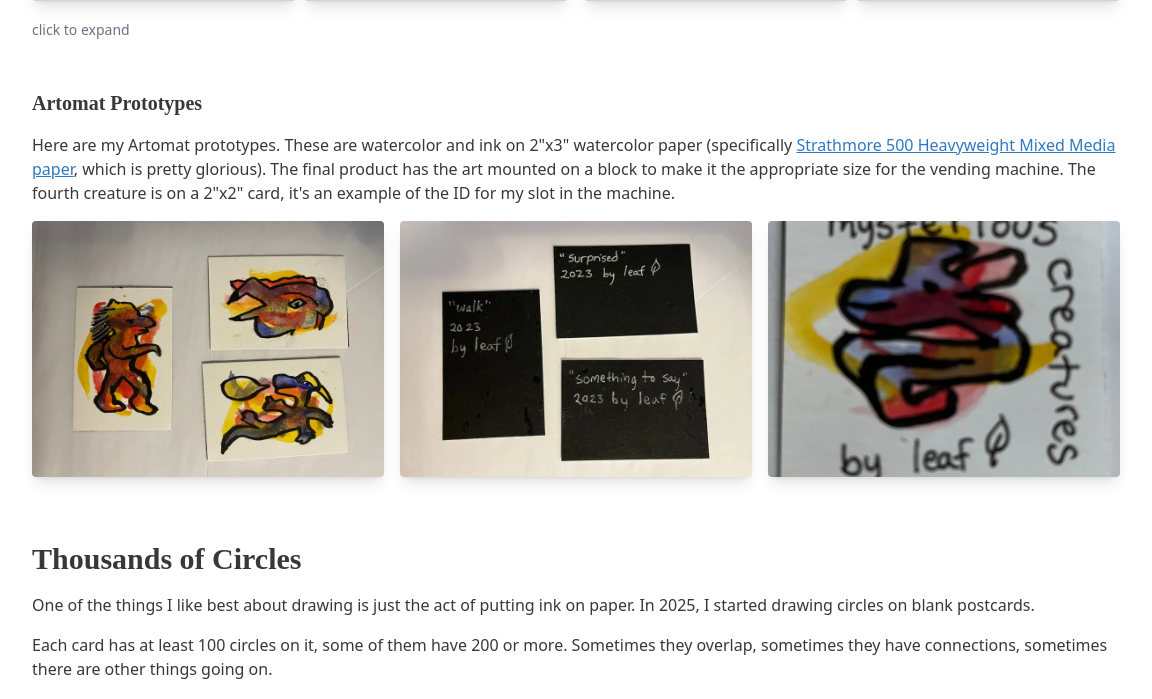
Test: Art Page › Lightbox Functionality › navigates to next image when next button is clicked
(page scrolled)
What coordinates should you click on to do the following:
click the picture with alt text "IMG 62"
I would click on:
 (208, 349)
Its box is [32,221,384,477].
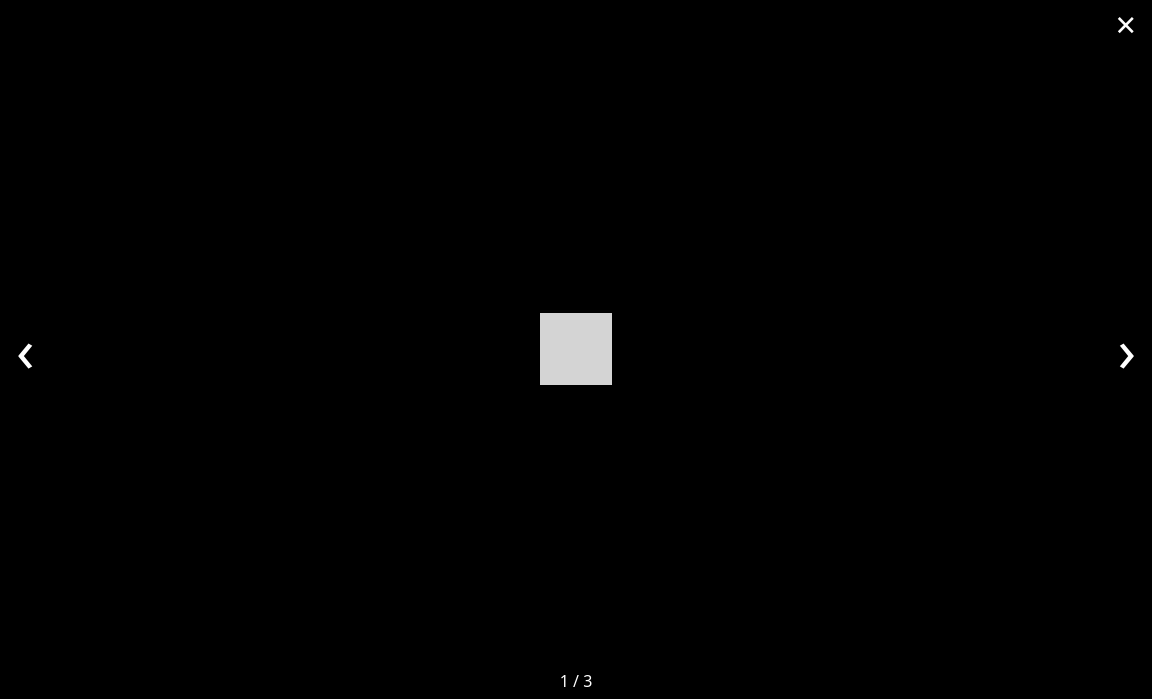
What coordinates should you click on to do the following:
click the button named "Next image"
I would click on:
 (1127, 349)
Its box is [1117,319,1136,379].
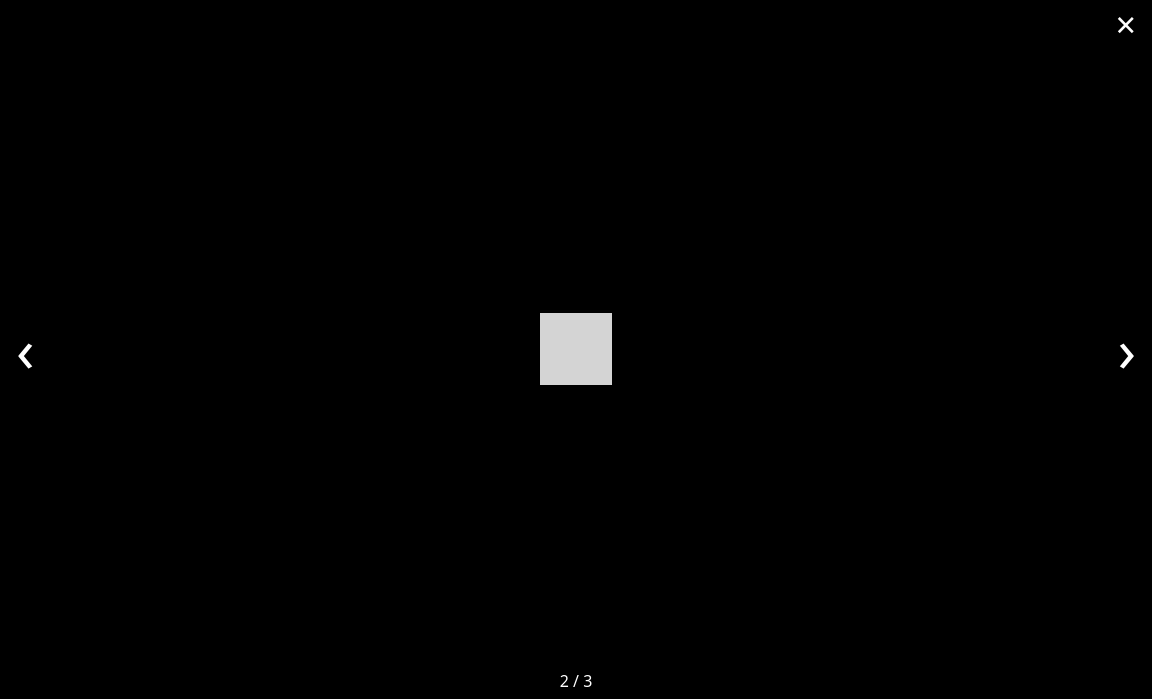
Result: the text "2 / 3" is shown at [560,669,592,693]
